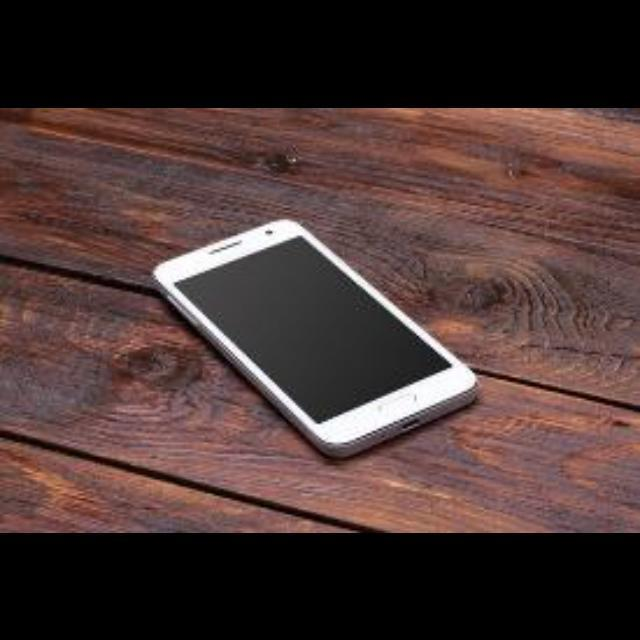PhoneUse: (130, 196, 493, 447)
